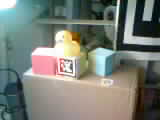duck: (42, 21, 82, 50)
